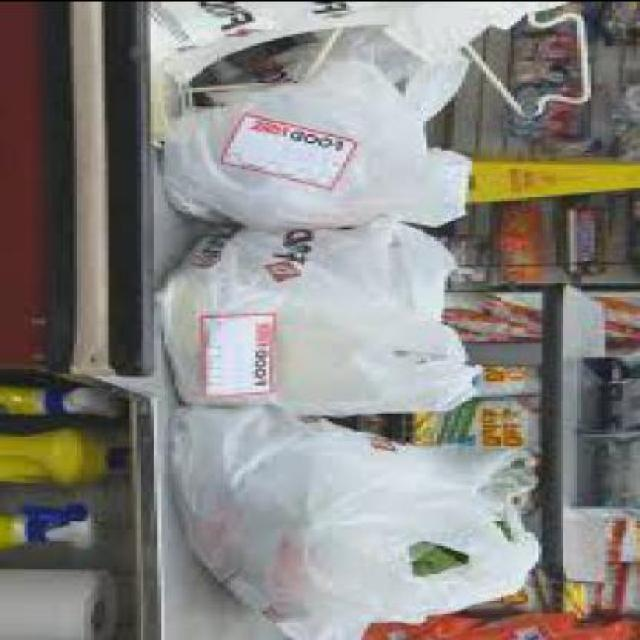PLASTIC: (170, 406, 548, 639), (161, 223, 482, 417), (168, 45, 472, 232), (4, 431, 133, 489), (3, 510, 102, 556), (3, 386, 123, 417), (28, 508, 102, 549), (49, 386, 122, 419), (112, 450, 136, 475)
